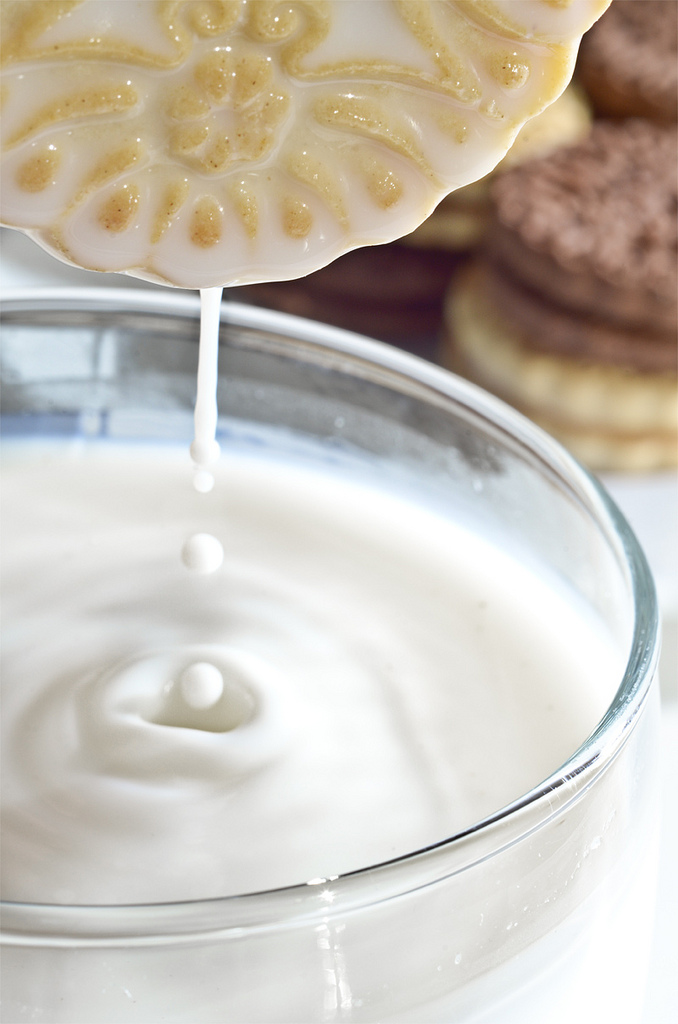glass of milk: (1, 266, 640, 1024)
